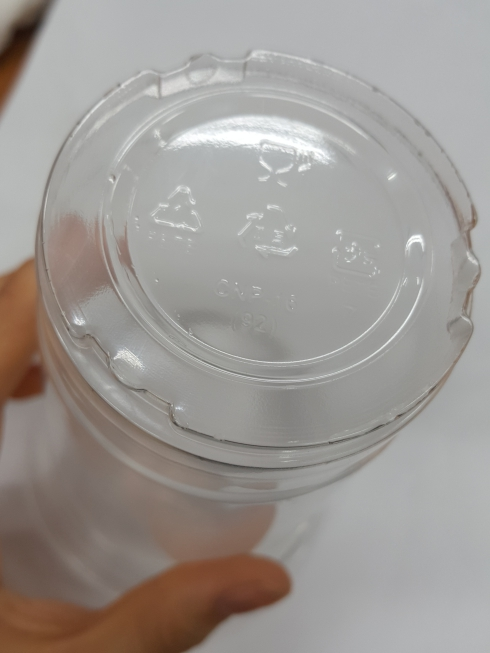recycle: (150, 164, 211, 272)
